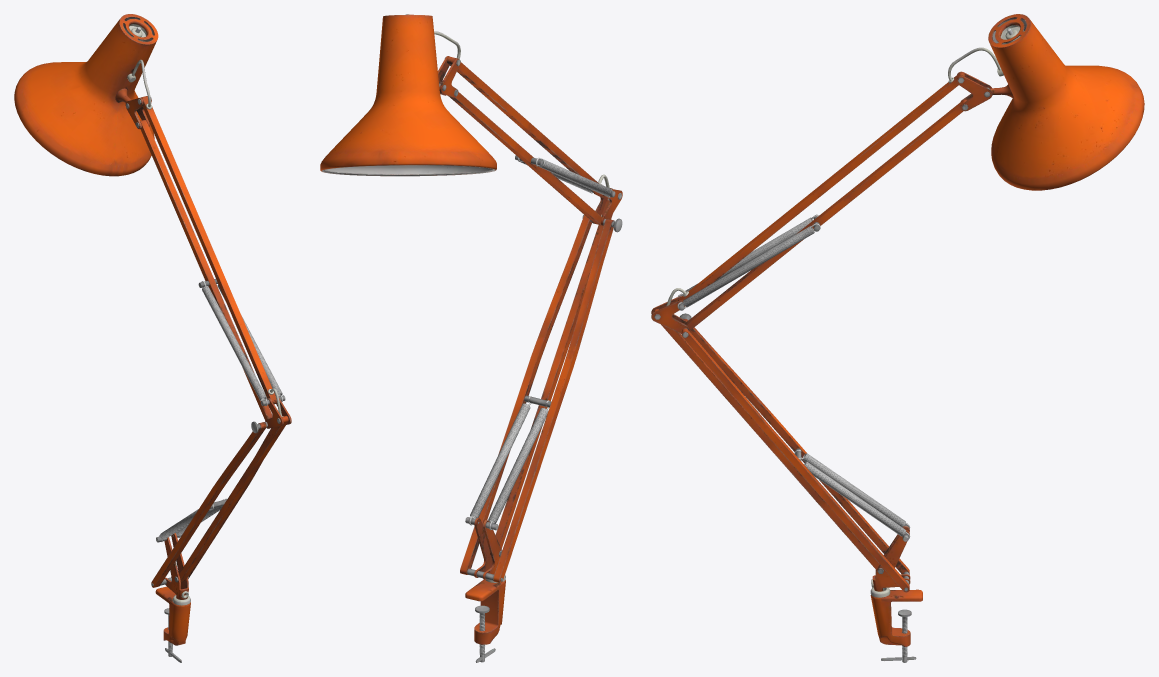
File: desk_lamp_arm_01.glb
3 views of the same model, side by side, from view 1: azimuth 30°, elevation 25°; view 2: azimuth 150°, elevation 25°; view 3: azimuth 270°, elevation 25° (orthographic). The views are drawn at different scales.
Parts seen in each view (by area): view 1: desk_lamp_arm_01; view 2: desk_lamp_arm_01; view 3: desk_lamp_arm_01.
Boxes of the visible parts, x1,y1,x2,y2 form: desk_lamp_arm_01: [14, 14, 291, 662]; desk_lamp_arm_01: [320, 14, 622, 662]; desk_lamp_arm_01: [651, 14, 1144, 662].
Bounding box in the file's own units: 0.2017 × 0.8926 × 0.6139.
2 materials, 2 textured.
